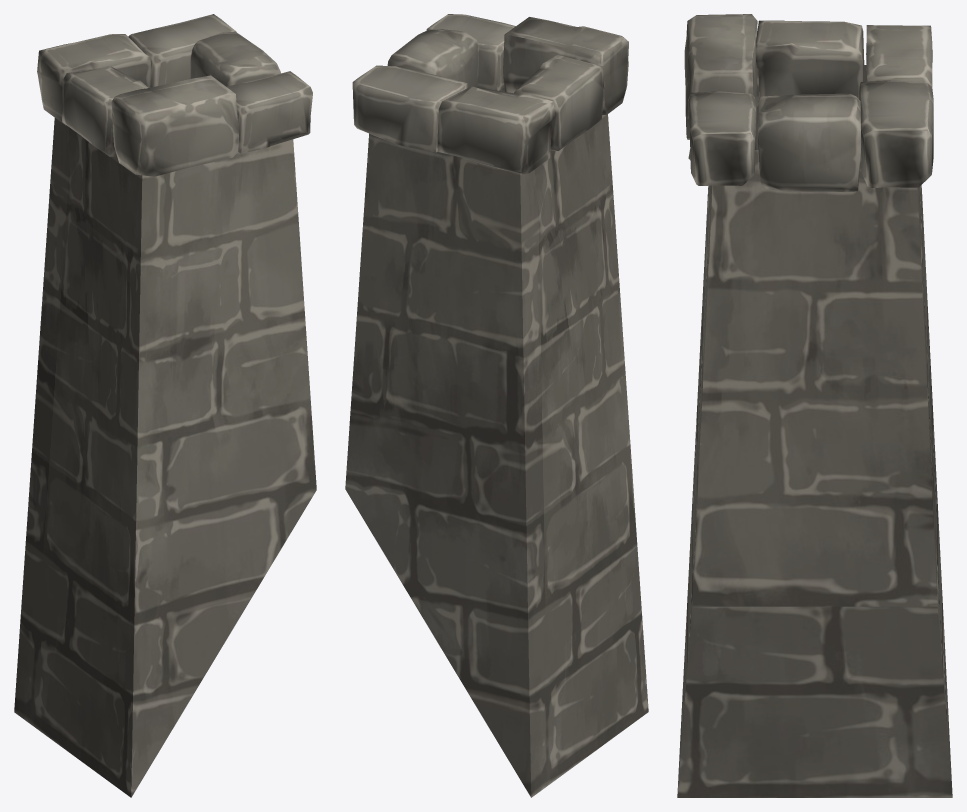
Rendered from Prop_Chimney.gltf.
3 renders of one model, left to right at view 1: azimuth 30°, elevation 25°; view 2: azimuth 150°, elevation 25°; view 3: azimuth 270°, elevation 25°, orthographic. The views are drawn at different scales.
Parts seen in each view (by area): view 1: Prop_Chimney; view 2: Prop_Chimney; view 3: Prop_Chimney.
Part boxes in pixels (box(x1,y1,x2,y2)): Prop_Chimney: box(14, 14, 316, 797); Prop_Chimney: box(345, 14, 648, 797); Prop_Chimney: box(677, 14, 952, 797).
Size of the model in its own units: 0.9458 by 3.18 by 1.
Materials: 2 (2 with a texture image).
